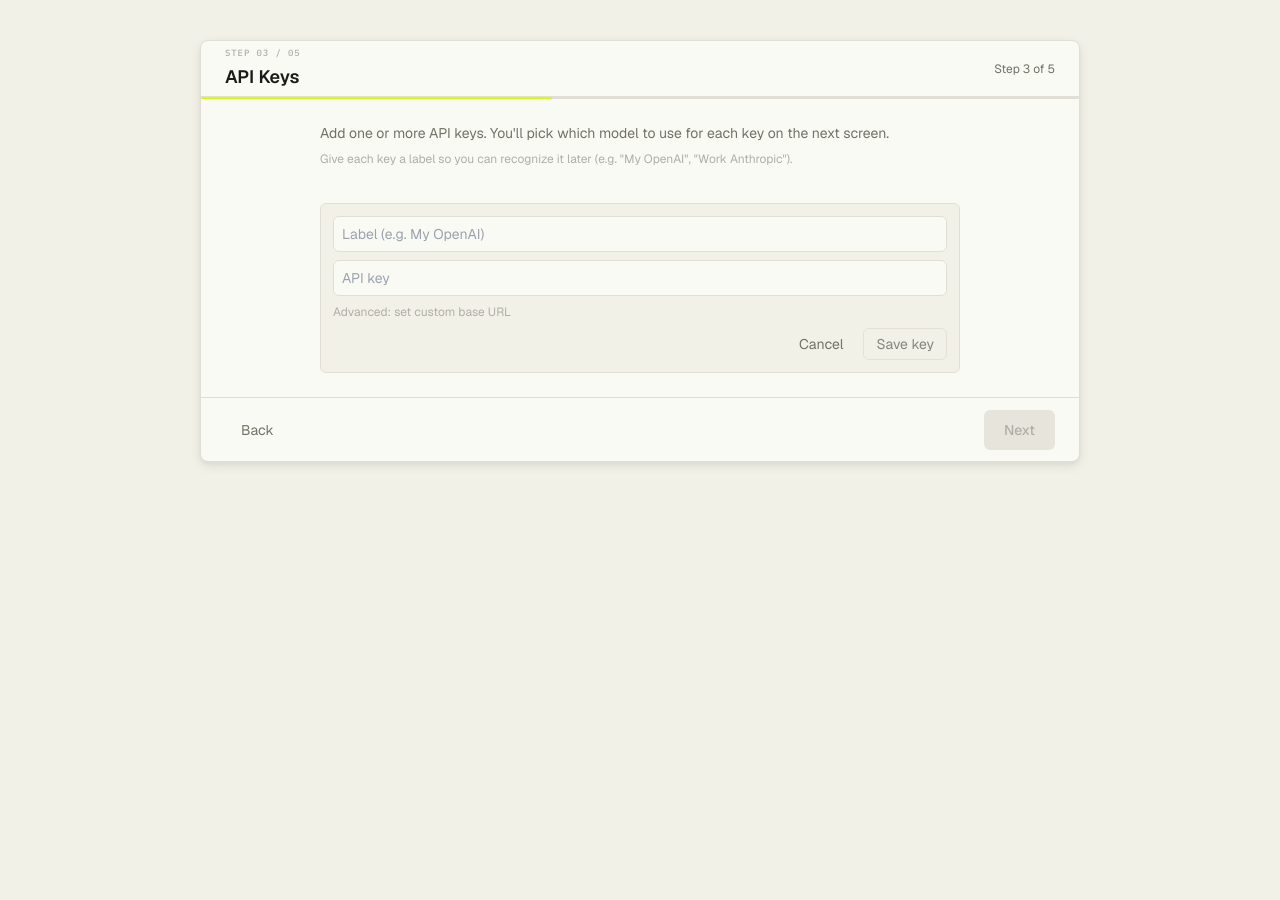
Test: ModelsStep › starts on the keys screen with Next disabled until a key is added
The width and height of the screenshot is (1280, 900).
Check: the button "Next" is disabled, box x1=984 y1=410 x2=1055 y2=450
In the field with placeholder "Label (e.g. My OpenAI)": {"x": 640, "y": 234} x1=333 y1=216 x2=947 y2=252, type "My OpenAI"
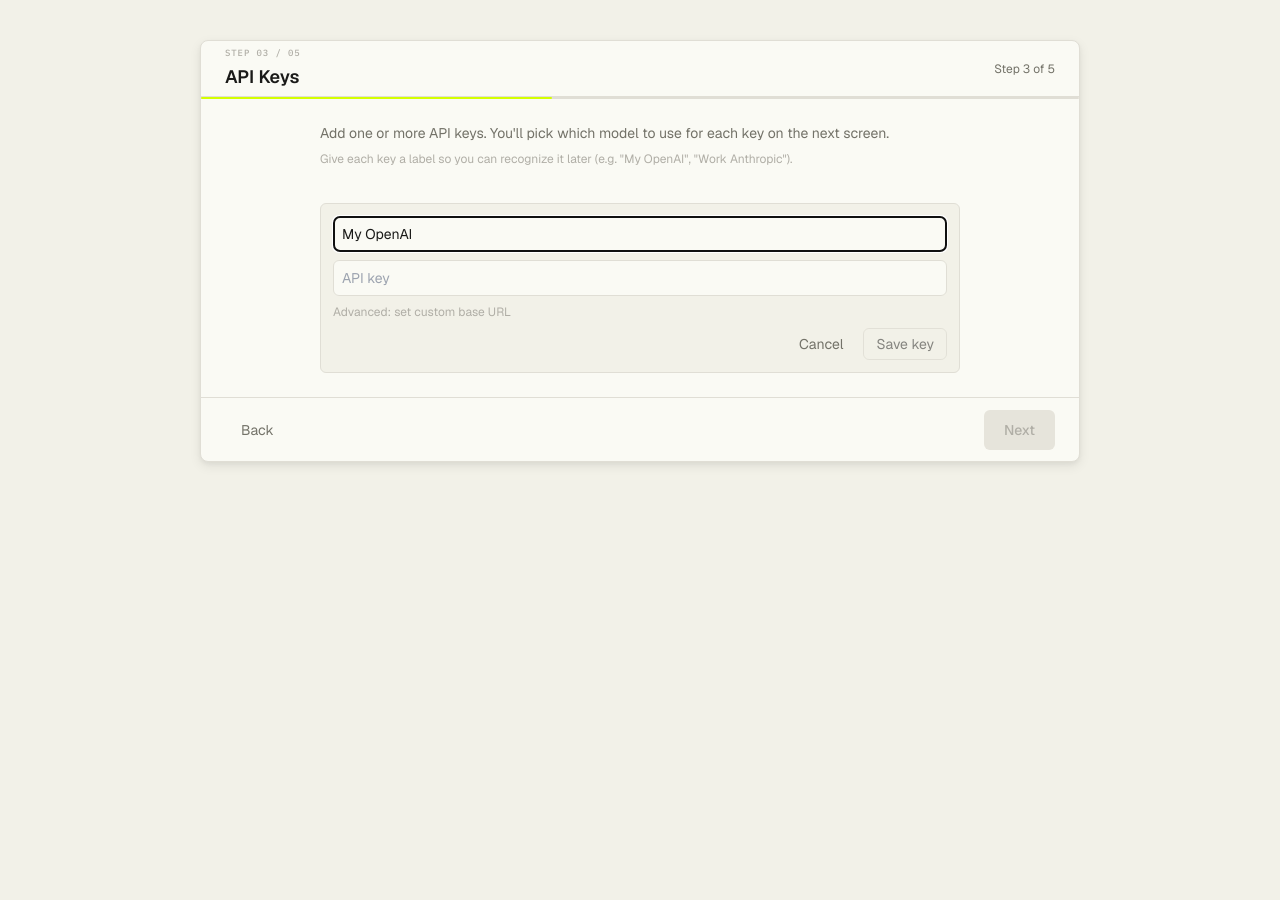
In the password field with placeholder "API key": {"x": 640, "y": 278} x1=333 y1=260 x2=947 y2=296, type "sk-test"
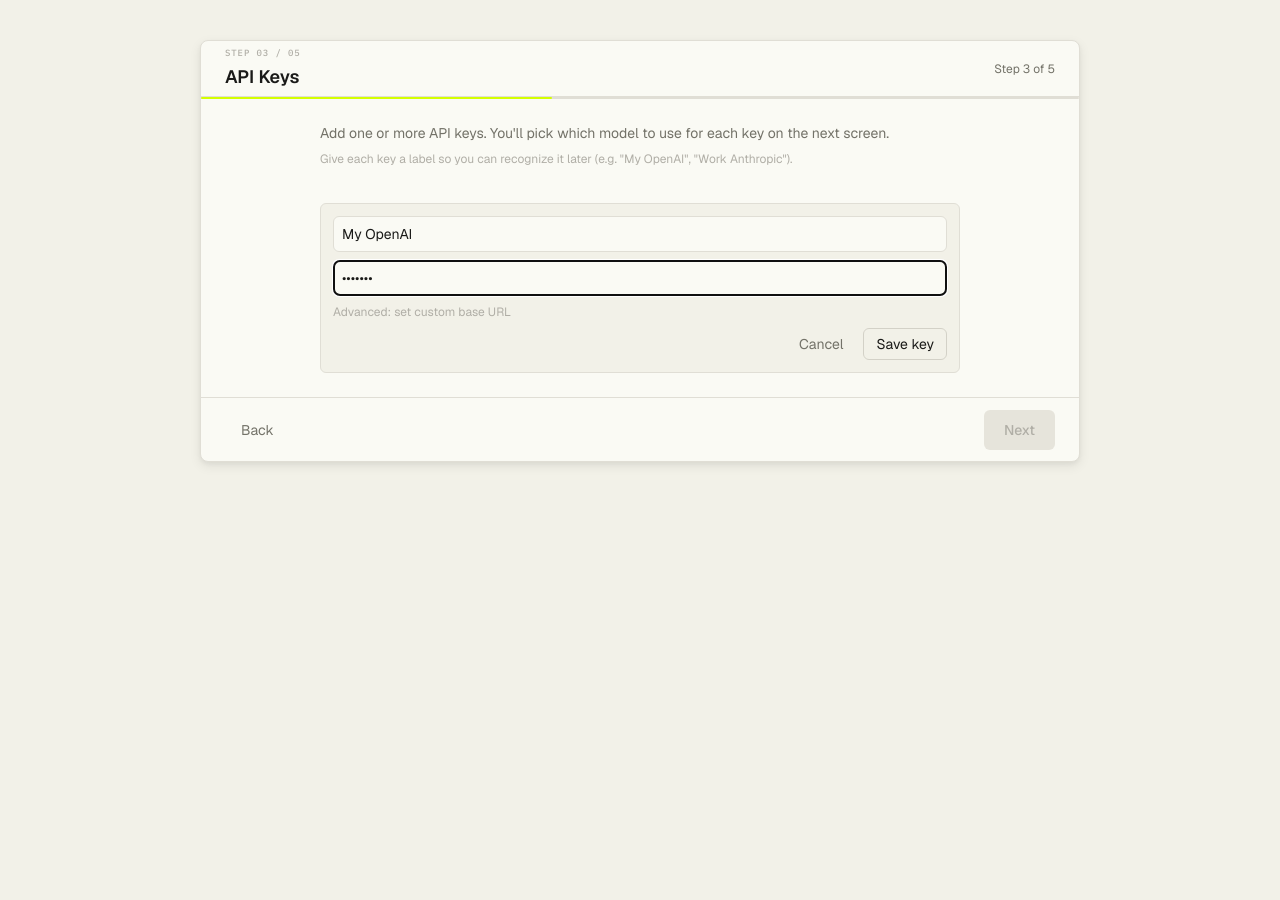
Click the button "Save key": {"x": 905, "y": 344} x1=863 y1=328 x2=947 y2=360
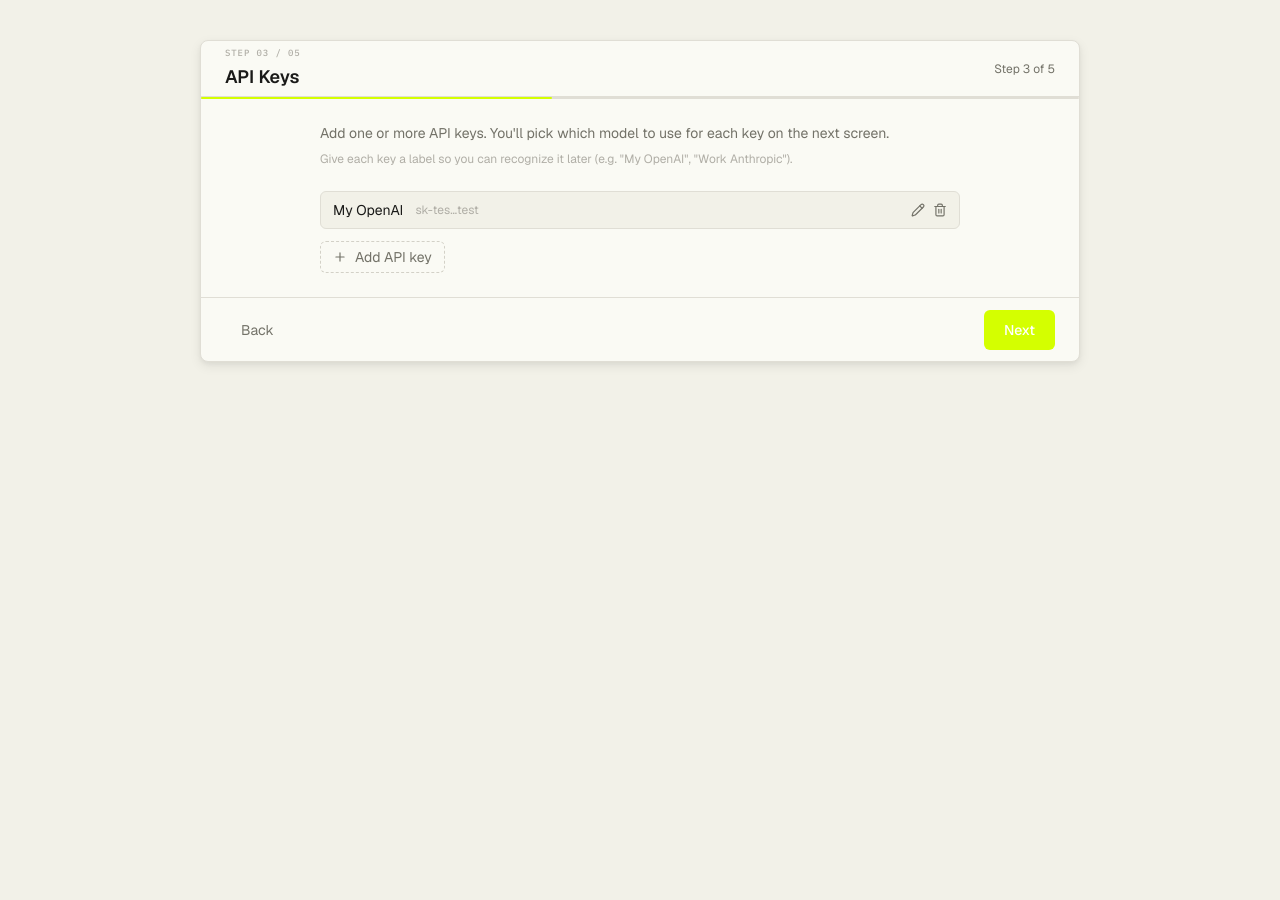
Check: the button "Next" is enabled, box x1=984 y1=310 x2=1055 y2=350
